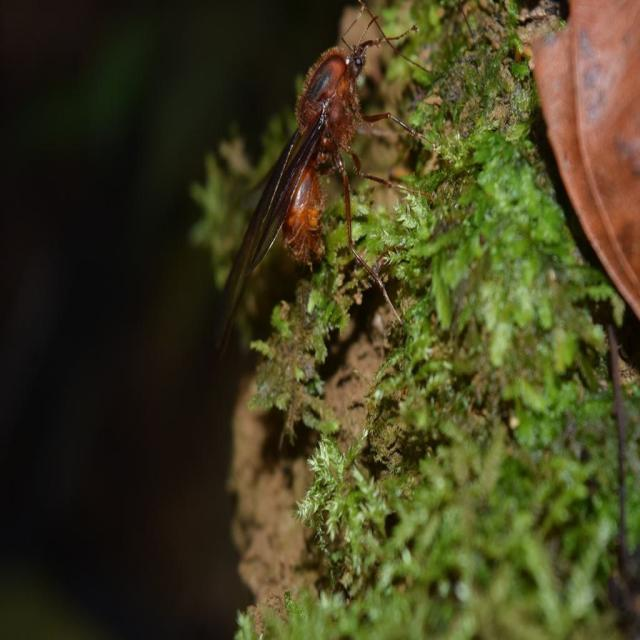Alive-Male-Alate: (212, 3, 438, 361)
